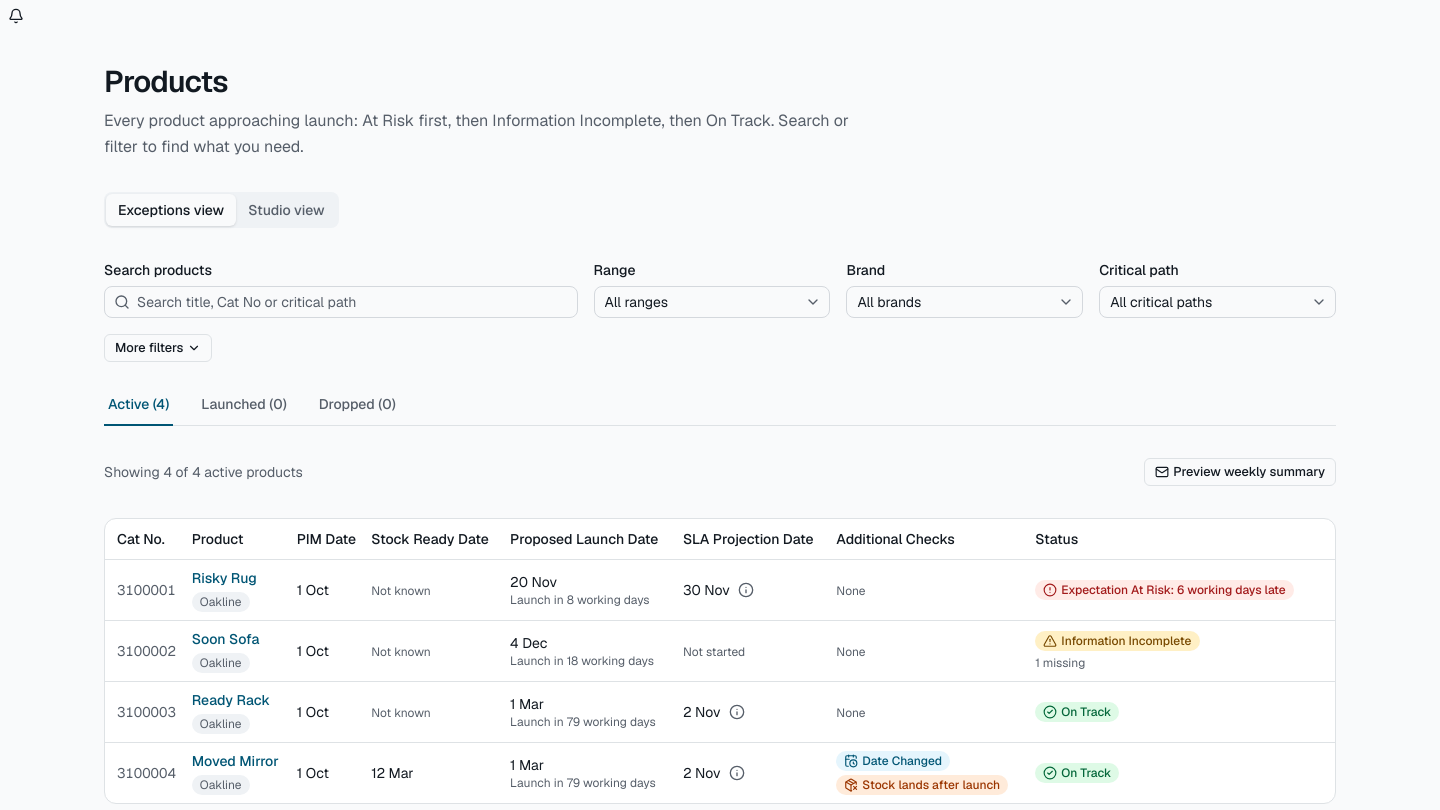
Test: Weekly summary preview › copies a plain-text version
Click the button "Preview weekly summary": {"x": 1240, "y": 472} [1144,458,1336,486]
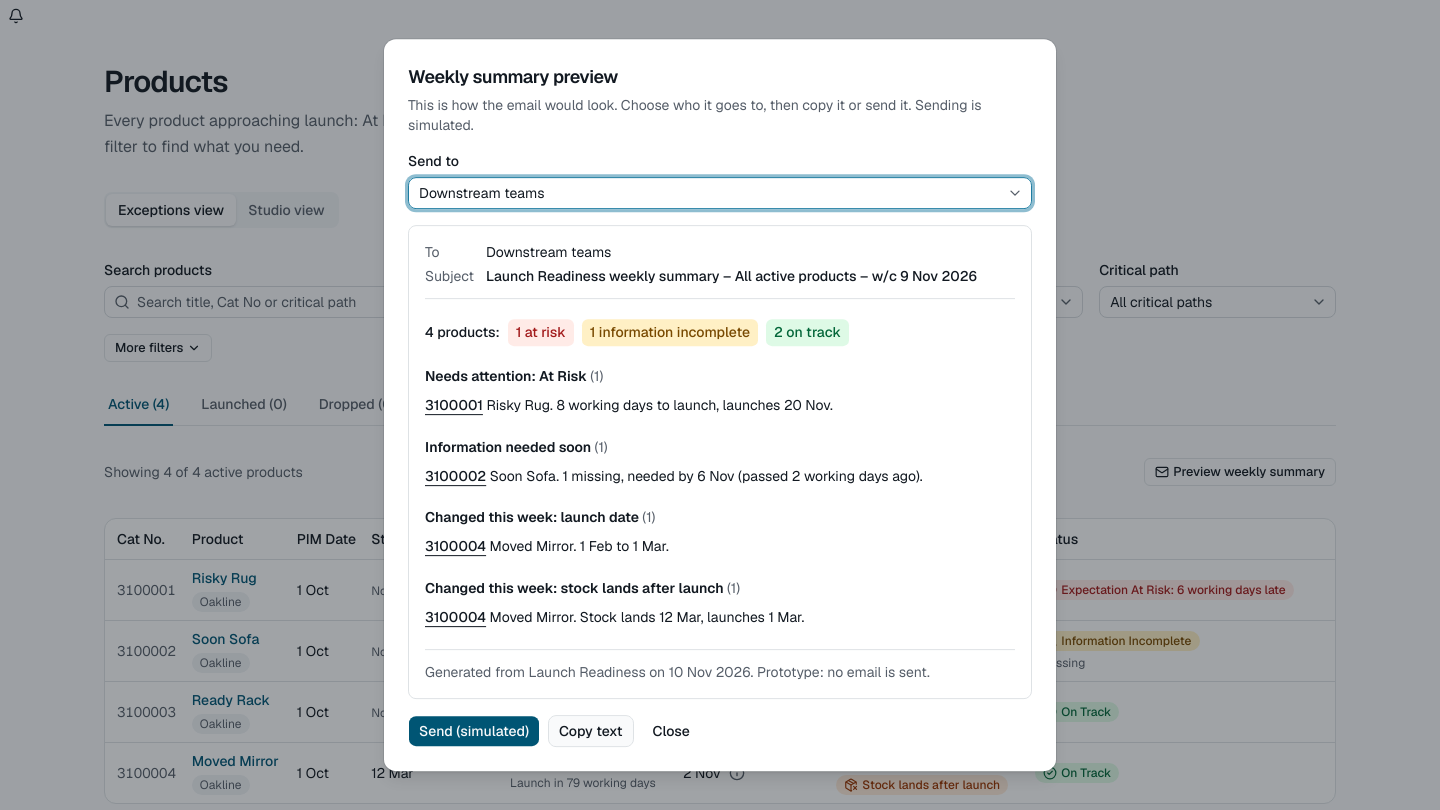
Click the button "Copy text": {"x": 591, "y": 731} [548,715,634,747]
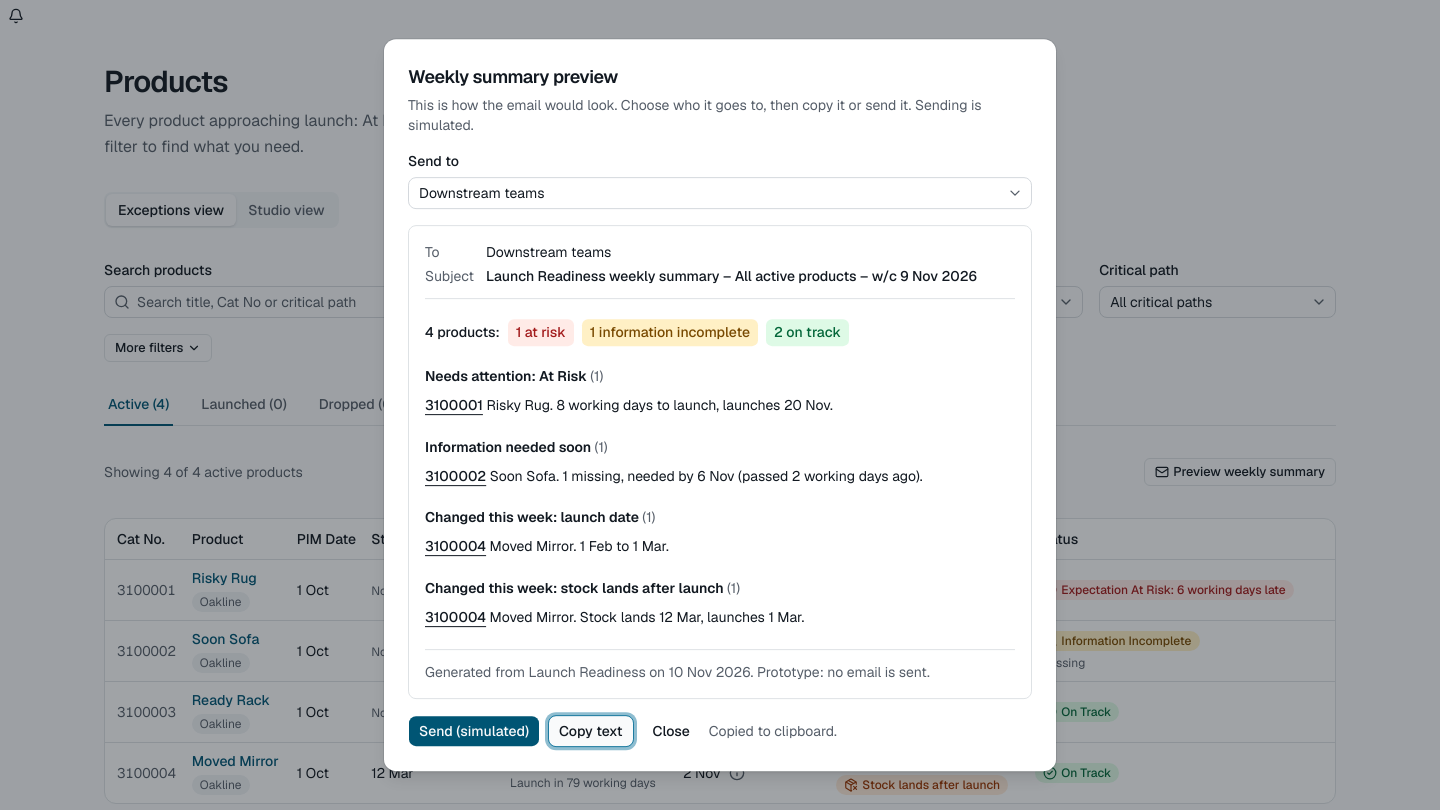
Expected: the text "Copied to clipboard." is shown, [709,721,837,741]
